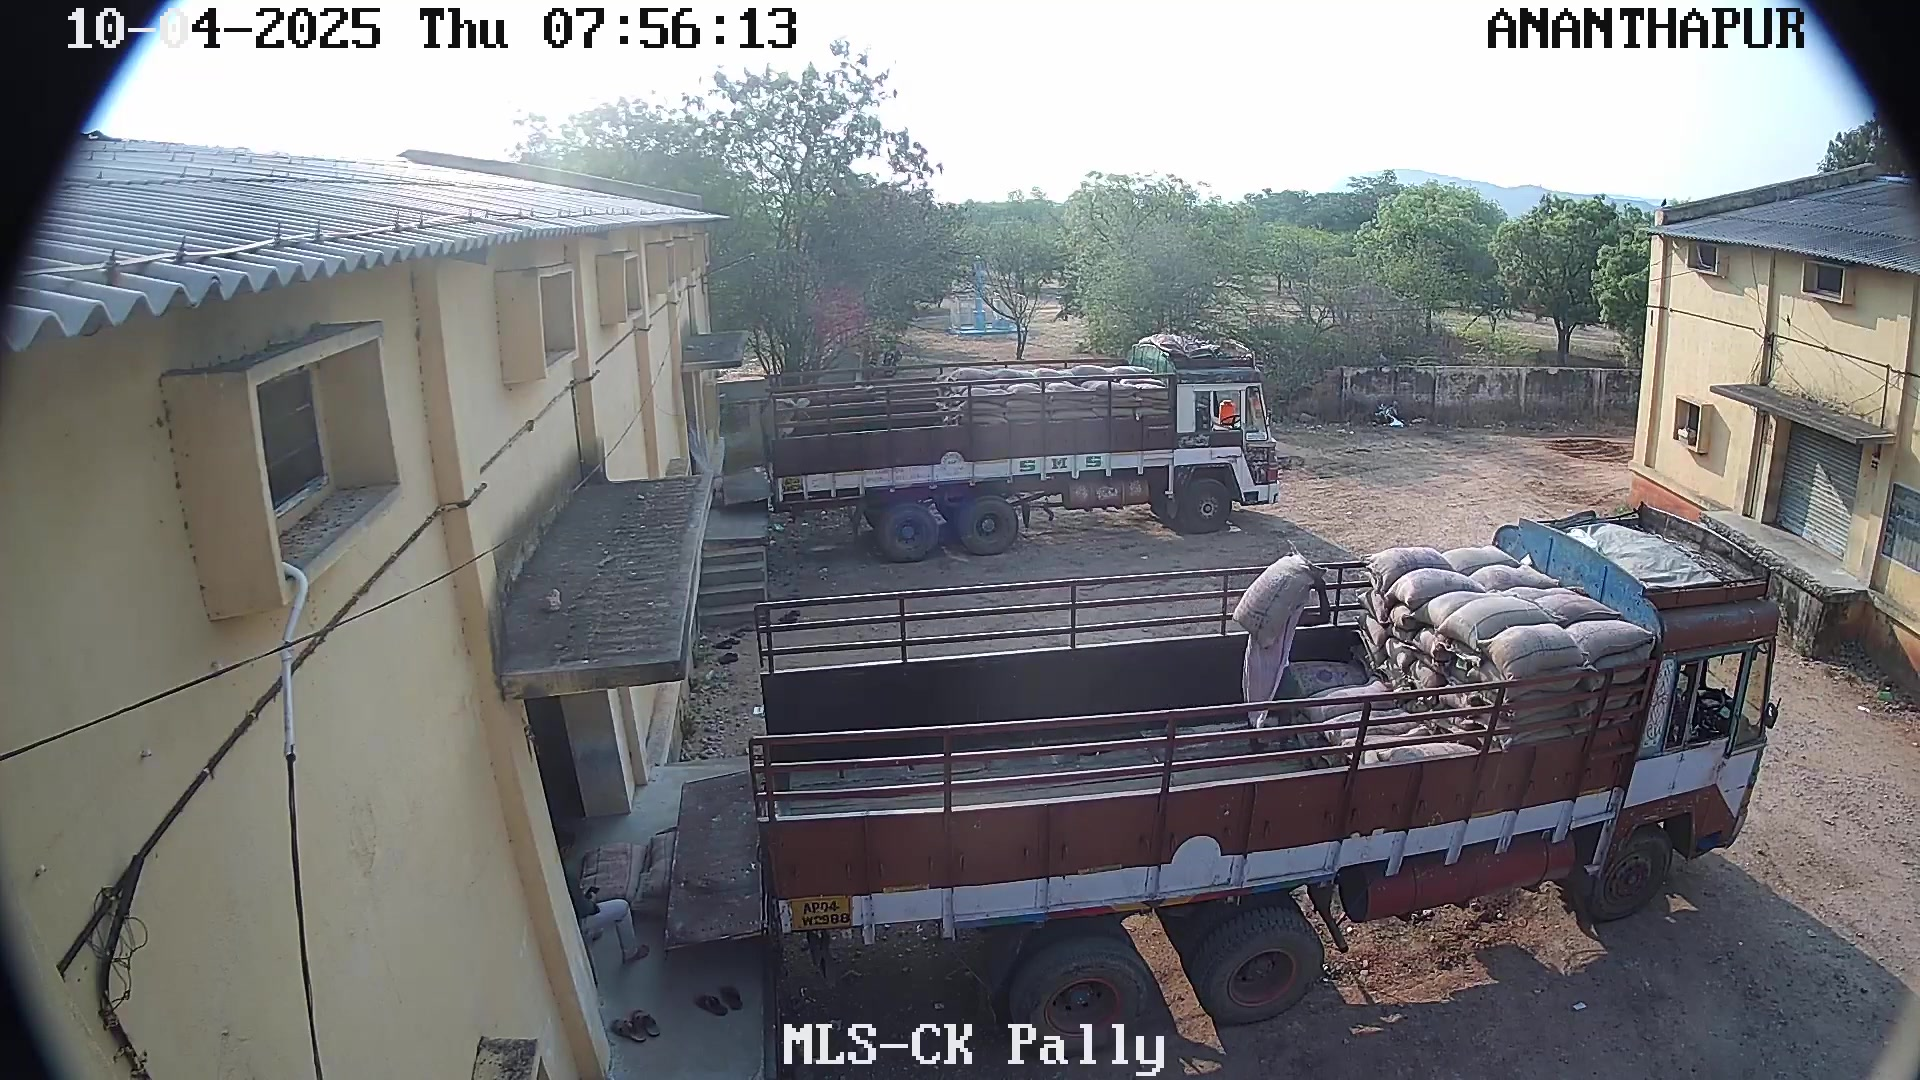gunny_bag_counting: (1228, 537, 1308, 644)
gunny_bag_ignore: (1315, 489, 1813, 824), (770, 327, 1304, 513)
